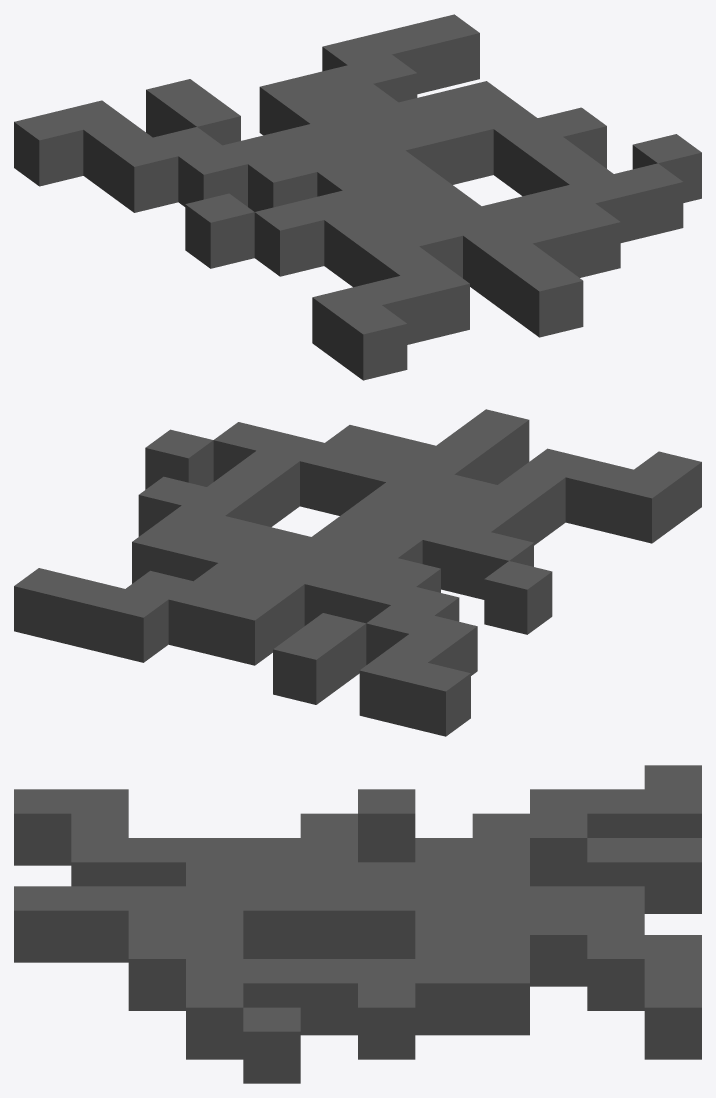
The model's file is alien_crawl1.obj.
3 renders of one model, top to bottom at view 1: azimuth 30°, elevation 25°; view 2: azimuth 150°, elevation 25°; view 3: azimuth 270°, elevation 25°, orthographic. The views are drawn at different scales.
Size of the model in its own units: 11 by 1 by 12.
